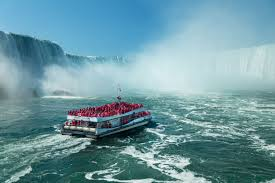boat: (60, 101, 152, 142)
